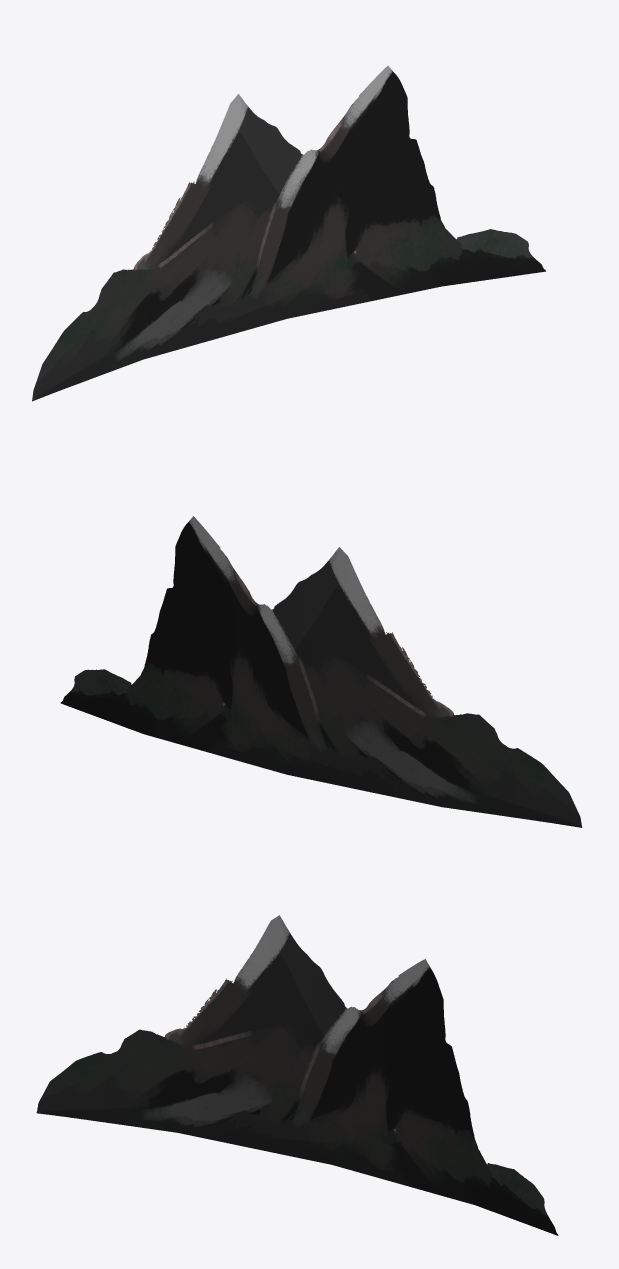
The model's file is SM_Mountain_Mid.fbx.
The picture shows the model from 3 angles, top to bottom: view 1: azimuth 30°, elevation 25°; view 2: azimuth 150°, elevation 25°; view 3: azimuth 330°, elevation 25°; orthographic projection.
Visible parts, largest first — view 1: Plane001; view 2: Plane001; view 3: Plane001.
Part boxes in pixels (x1,y1,x2,y2): Plane001: (32,65,545,401); Plane001: (60,516,582,827); Plane001: (36,915,558,1235).
Bounding box in the file's own units: 98.86 × 40 × 6.51.
